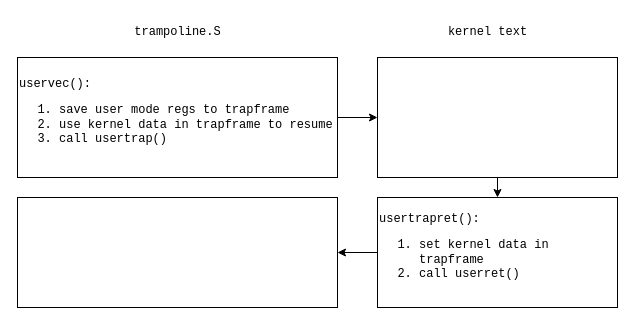
Image size: 635x325. Some labels were removed from this diagram. The centre of each missing label's shape, as x and y in pixels:
userret() restore regs use trapframe sret use epc: [177,252]
usertrap(): deal with trap call usertrapret(): [497,117]
